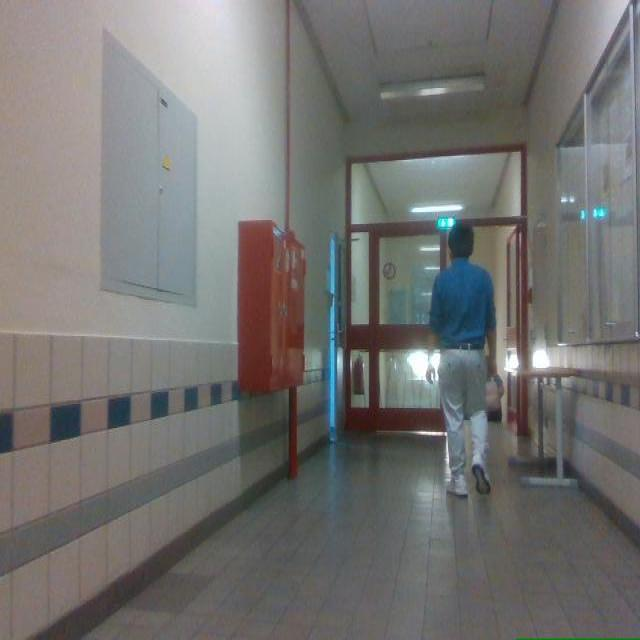humans: (430, 224, 496, 495)
